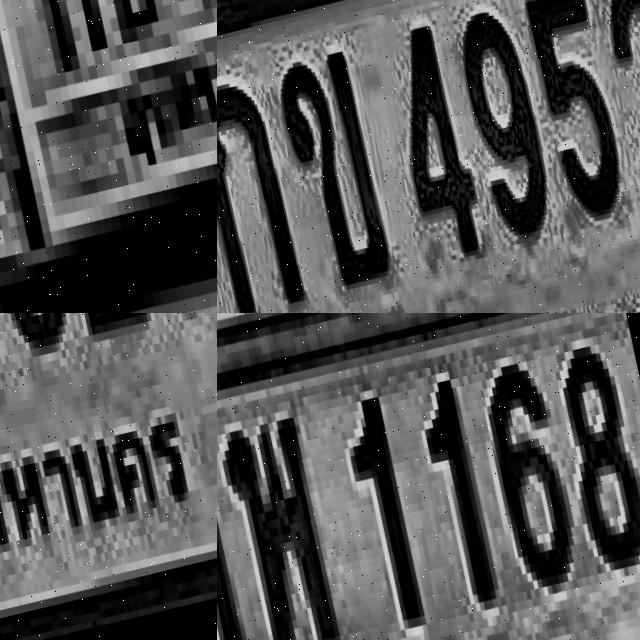license-plate: (217, 313, 640, 640), (217, 0, 640, 313), (0, 313, 217, 640), (0, 0, 217, 313)
